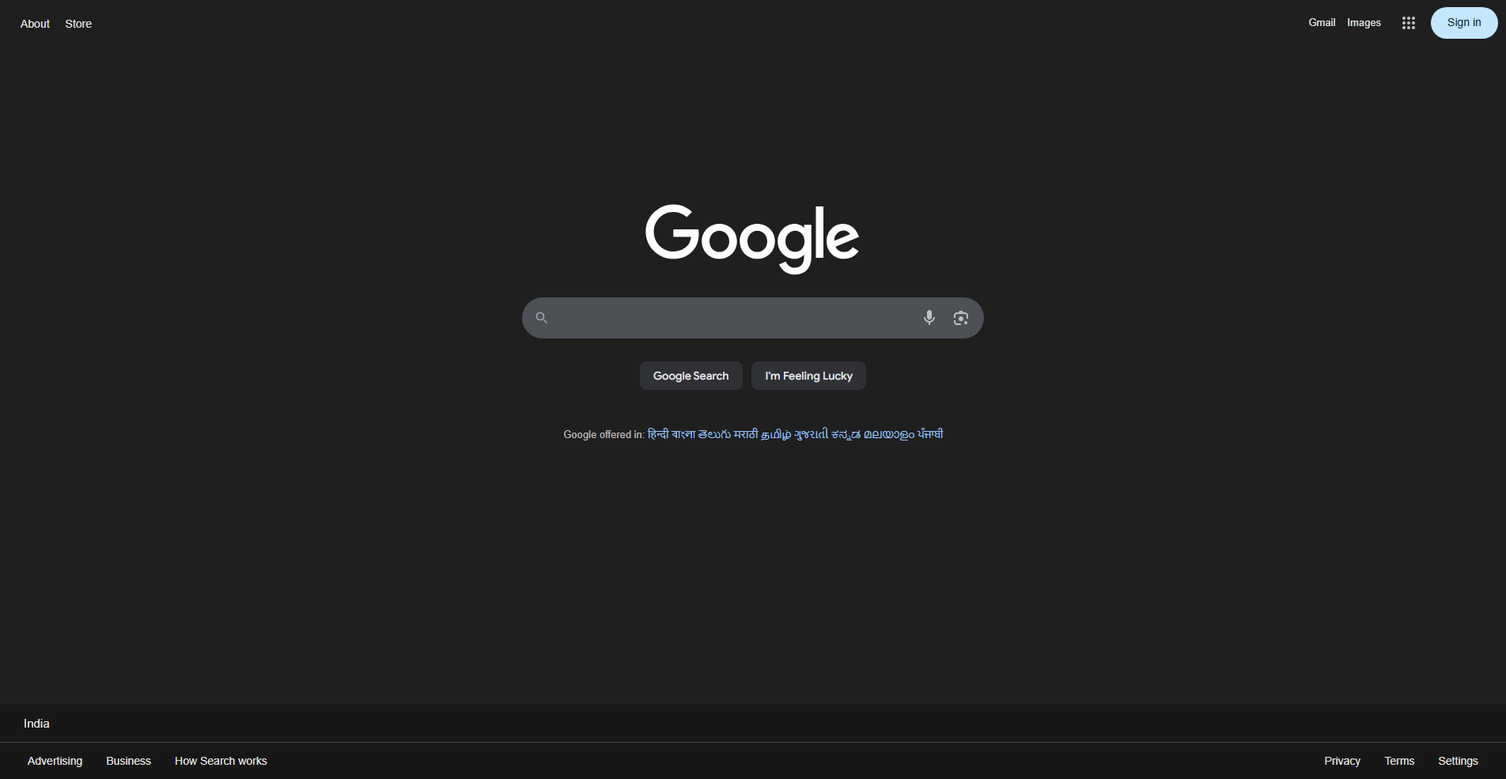button: (1426, 743, 1490, 779), (1393, 7, 1425, 38), (945, 308, 977, 327), (914, 308, 945, 327)
input: (752, 361, 866, 390), (640, 361, 742, 390)
link: (163, 743, 279, 779), (16, 743, 94, 779), (94, 743, 163, 779), (1313, 743, 1373, 779), (1431, 7, 1498, 38), (1373, 743, 1426, 779), (17, 13, 53, 34), (61, 13, 96, 34), (1347, 13, 1381, 32), (864, 429, 915, 441), (1309, 13, 1335, 32), (794, 429, 828, 441), (698, 429, 731, 441), (761, 429, 792, 441), (831, 429, 861, 441), (918, 429, 943, 441), (734, 429, 758, 441), (672, 429, 695, 441), (648, 429, 669, 441)
textarea: (560, 298, 914, 338)
